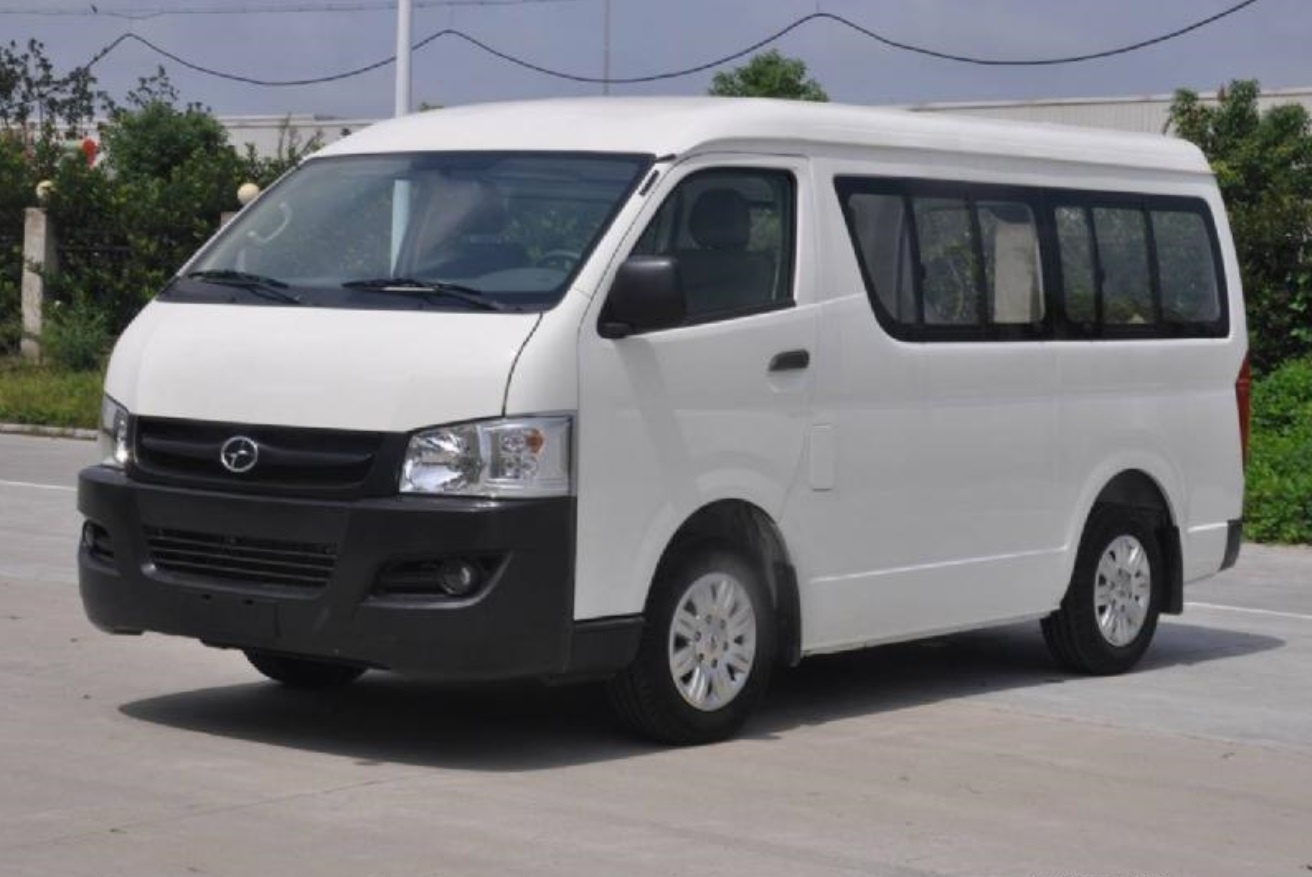minibus: (88, 101, 1259, 697)
